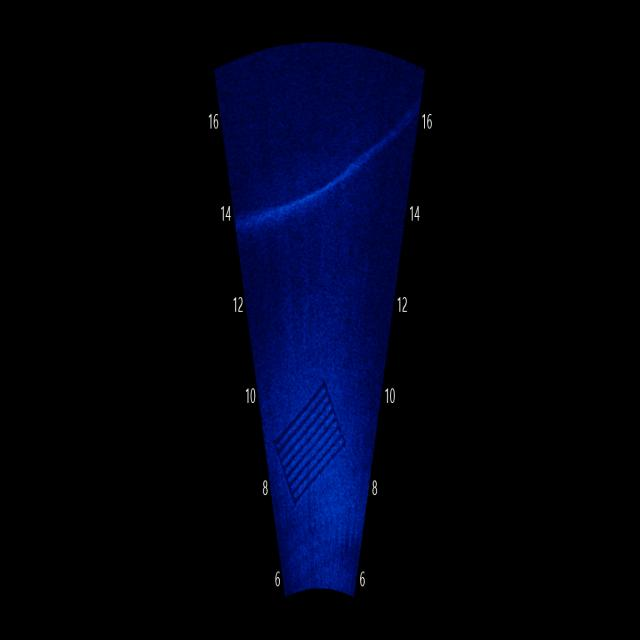square: (272, 380, 356, 510)
